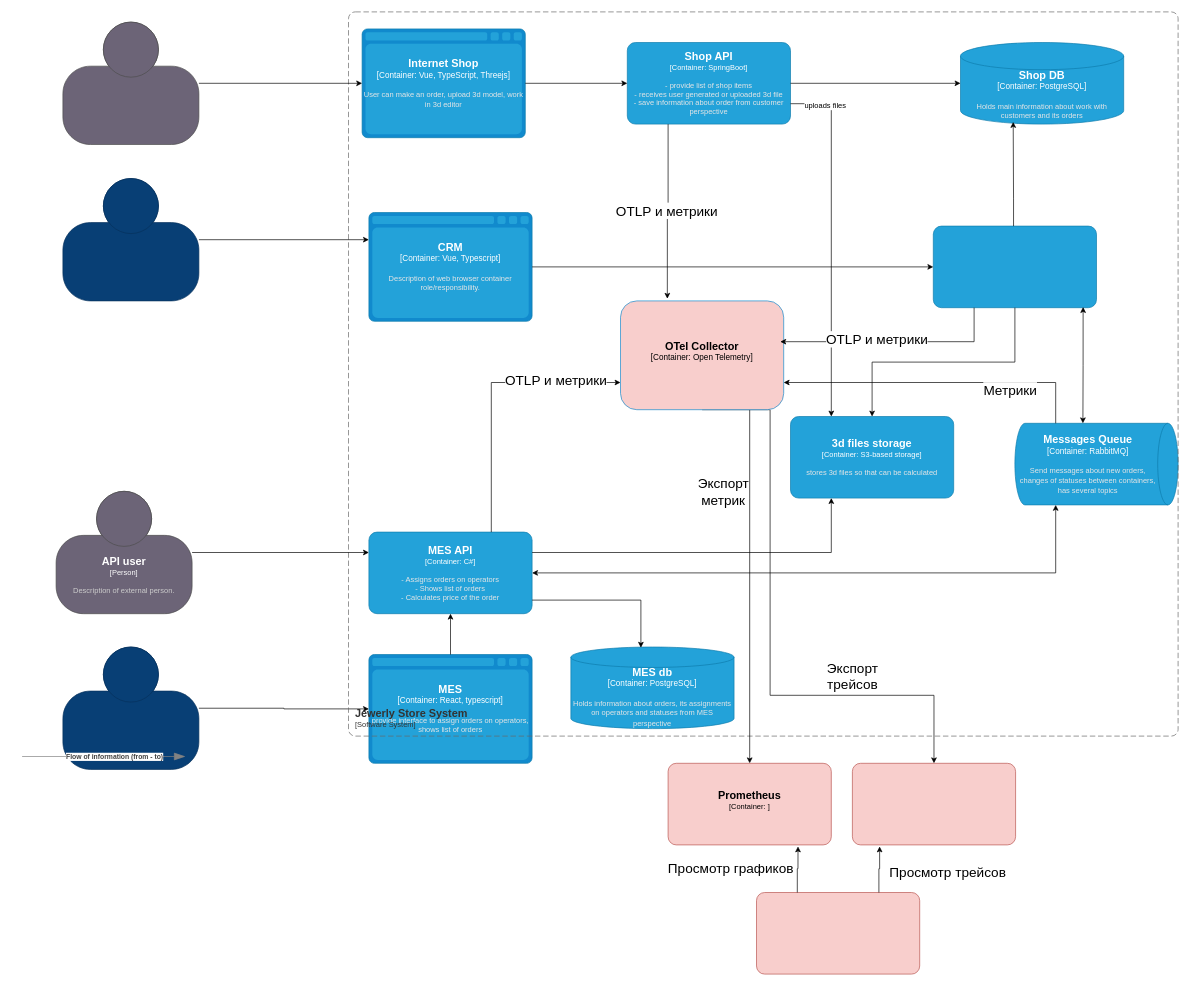
Some shapes in this 1190 by 986 pixel diagram are drawn without their labels. The centre of each missing label's shape, as x and y in pixels:
"CRM API [Container: SpringBoot] Description of container role/responsibility." goes at pixel 1014 266.
"Customer [Person] Description of external person." goes at pixel 130 82.
"Grafana [Container: ]" goes at pixel 838 933.
"Jaeger [Container: ]" goes at pixel 934 804.
"Operator [Person] Takes order in work, manufactures jewerly" goes at pixel 130 707.
"Seller [Person] Operates with order, confirms manufacturing for the user" goes at pixel 130 239.
